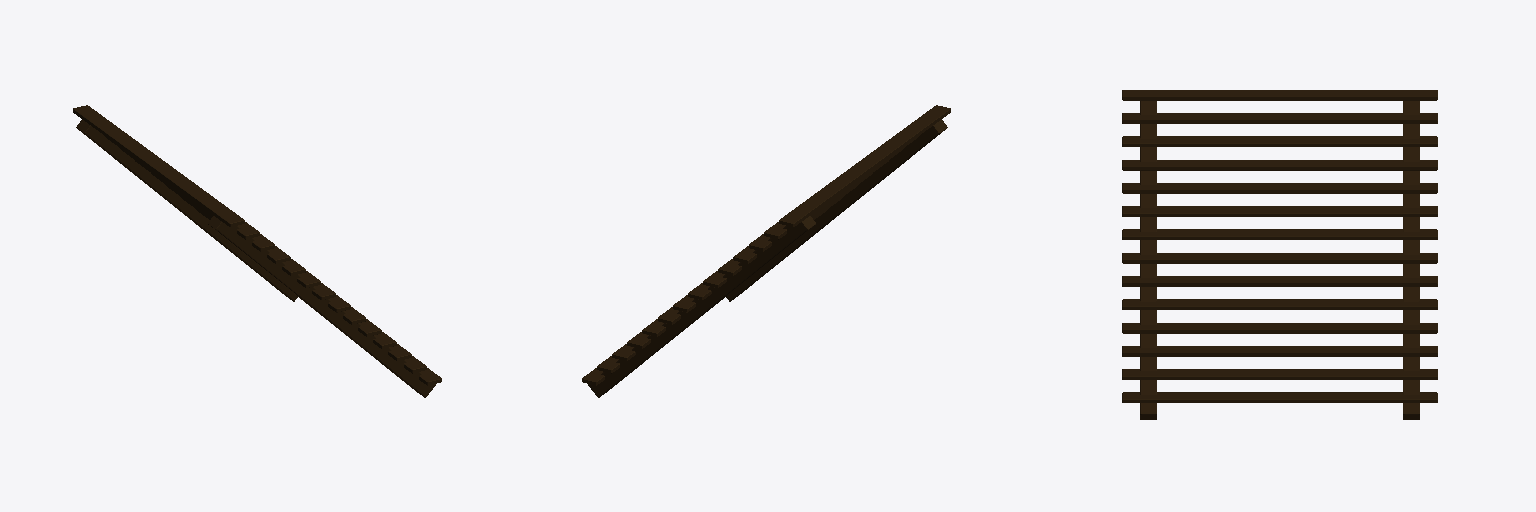
The model's file is stairs.obj.
3 renders of one model, left to right at view 1: azimuth 30°, elevation 25°; view 2: azimuth 150°, elevation 25°; view 3: azimuth 270°, elevation 25°, orthographic.
Visible parts, largest first — view 1: Support_Cube.001, Step.013_Cube.015; view 2: Support_Cube.001, Step.013_Cube.015; view 3: Support_Cube.001, Step.013_Cube.015, Step.001_Cube.003, Step.004_Cube.006, Step.005_Cube.007, Step.008_Cube.010, Step.012_Cube.014, Step_Cube.002, Step.003_Cube.005, Step.009_Cube.011, Step.010_Cube.012, Step.002_Cube.004 (+3 smaller).
Part boxes in pixels (left/top/right/bottom): Support_Cube.001: left=76, top=120, right=435, bottom=397; Step.013_Cube.015: left=73, top=105, right=244, bottom=226; Support_Cube.001: left=588, top=120, right=947, bottom=397; Step.013_Cube.015: left=779, top=105, right=950, bottom=226; Support_Cube.001: left=1140, top=101, right=1419, bottom=419; Step.013_Cube.015: left=1122, top=90, right=1437, bottom=100; Step.001_Cube.003: left=1122, top=276, right=1437, bottom=286; Step.004_Cube.006: left=1122, top=346, right=1437, bottom=356; Step.005_Cube.007: left=1122, top=369, right=1437, bottom=379; Step.008_Cube.010: left=1122, top=206, right=1437, bottom=216; Step.012_Cube.014: left=1122, top=113, right=1437, bottom=123; Step_Cube.002: left=1122, top=253, right=1437, bottom=263; Step.003_Cube.005: left=1122, top=323, right=1437, bottom=333; Step.009_Cube.011: left=1122, top=183, right=1437, bottom=193; Step.010_Cube.012: left=1122, top=160, right=1437, bottom=170; Step.002_Cube.004: left=1122, top=299, right=1437, bottom=309.
Bounding box in the file's own units: 2.9 × 2.91 × 3.6.